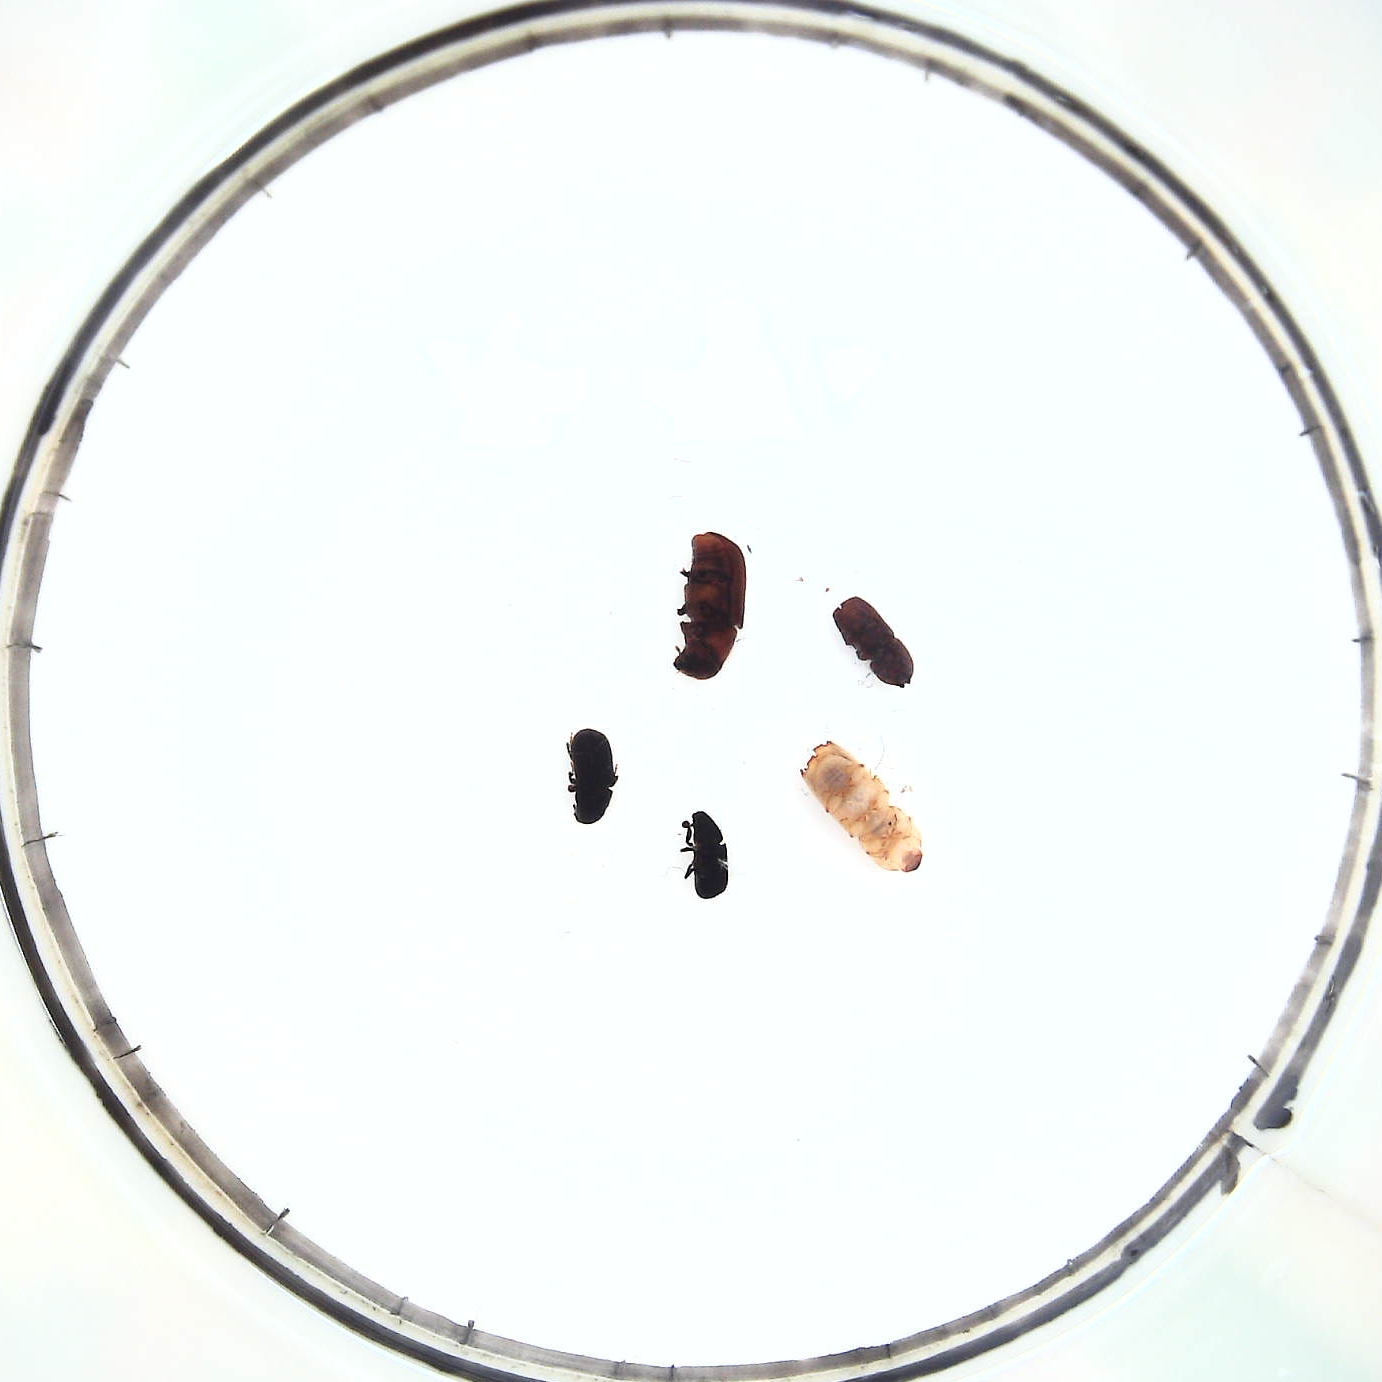Boerner: (795, 737, 928, 882)
Leconte: (673, 526, 749, 682)
Linnaeus: (831, 592, 914, 692)
armandi: (564, 723, 625, 828)
coleoptera: (680, 805, 731, 905)
